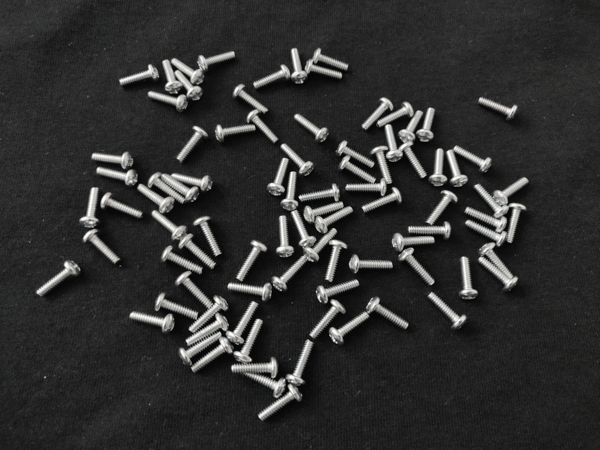shortscrew: (258, 384, 303, 423), (428, 292, 468, 332), (187, 296, 229, 334), (36, 261, 81, 296), (191, 337, 233, 374), (178, 333, 223, 367), (477, 256, 518, 293), (366, 297, 409, 332), (175, 271, 214, 309), (309, 300, 347, 339), (398, 248, 436, 287), (226, 302, 260, 345), (271, 255, 309, 293), (478, 242, 515, 281), (83, 230, 121, 267), (178, 234, 217, 270), (185, 315, 228, 347), (329, 311, 369, 345), (236, 240, 268, 282), (285, 341, 314, 387), (175, 126, 209, 165), (160, 245, 204, 275), (234, 319, 263, 364), (238, 371, 286, 398), (100, 193, 144, 222), (463, 206, 508, 234), (475, 183, 510, 219), (193, 217, 223, 258), (303, 228, 338, 263), (148, 172, 187, 203), (453, 145, 493, 175), (155, 293, 199, 320), (279, 144, 315, 177), (361, 97, 394, 133), (293, 113, 330, 145), (160, 174, 200, 203), (151, 211, 188, 242), (465, 221, 509, 247), (137, 184, 175, 214), (232, 84, 270, 114), (336, 140, 376, 168), (427, 190, 458, 226), (129, 311, 175, 335), (361, 187, 403, 213), (315, 206, 354, 234), (247, 110, 278, 145), (317, 280, 360, 305), (493, 177, 530, 206), (231, 357, 279, 379), (338, 156, 377, 183), (118, 63, 160, 88), (324, 240, 348, 283), (376, 101, 414, 128), (292, 210, 317, 251), (147, 90, 189, 113), (267, 158, 291, 198), (478, 97, 518, 121), (174, 70, 203, 103), (253, 64, 290, 89), (79, 188, 102, 228), (304, 202, 344, 225), (171, 58, 205, 85), (303, 59, 344, 81), (371, 146, 394, 185), (398, 110, 424, 144), (95, 167, 139, 187), (313, 49, 351, 72), (348, 255, 394, 274), (298, 184, 341, 204), (197, 51, 236, 73), (447, 150, 469, 189), (228, 283, 273, 302), (275, 216, 295, 258), (506, 203, 527, 243), (91, 152, 134, 171), (171, 173, 214, 192), (393, 233, 436, 252), (409, 222, 452, 241), (216, 123, 256, 143), (280, 171, 299, 211), (162, 59, 183, 95), (346, 179, 389, 196), (386, 124, 404, 164), (416, 108, 436, 144), (428, 149, 446, 188), (291, 49, 308, 84)
